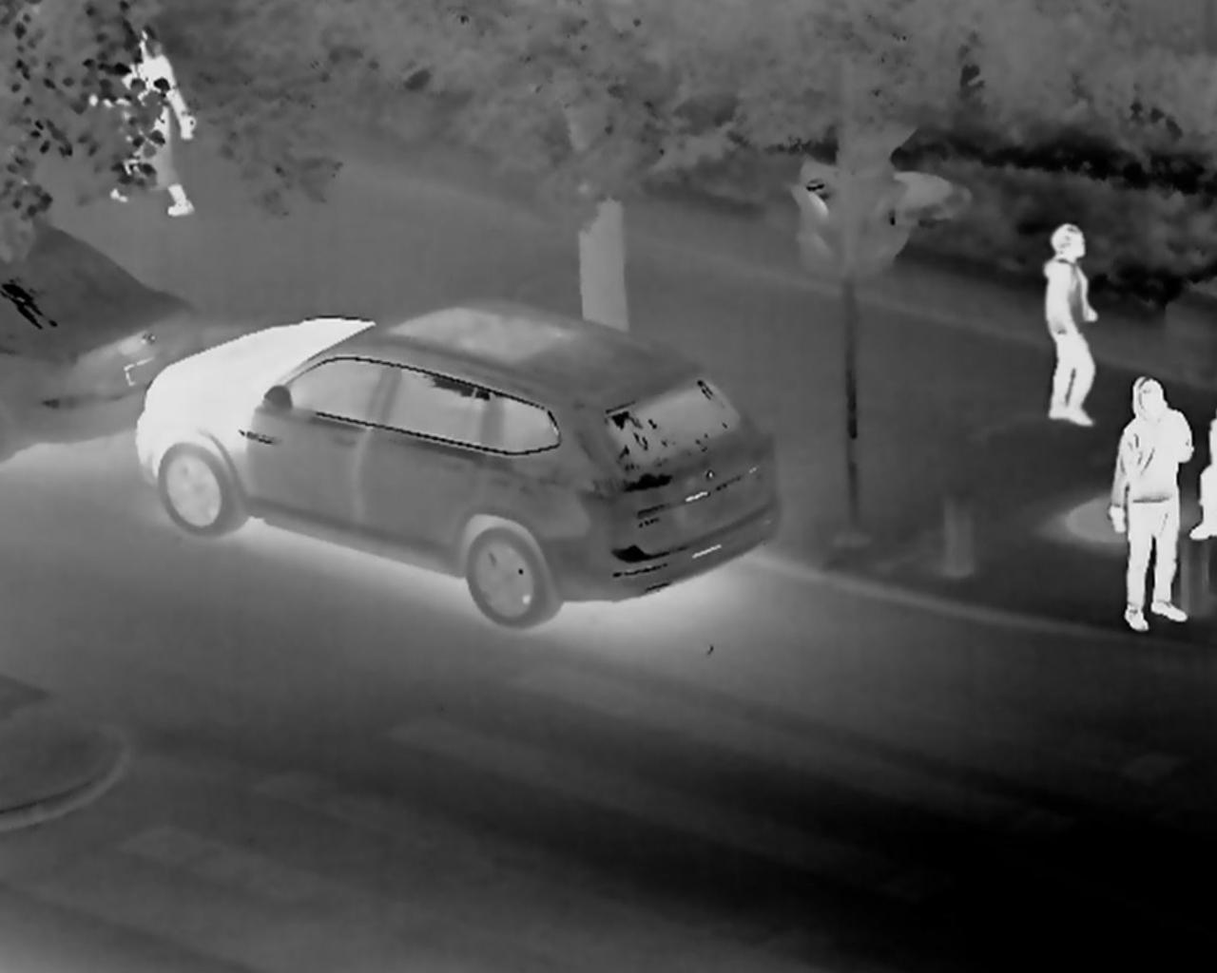person: (1104, 371, 1195, 633), (87, 25, 199, 220), (1036, 219, 1111, 427)
